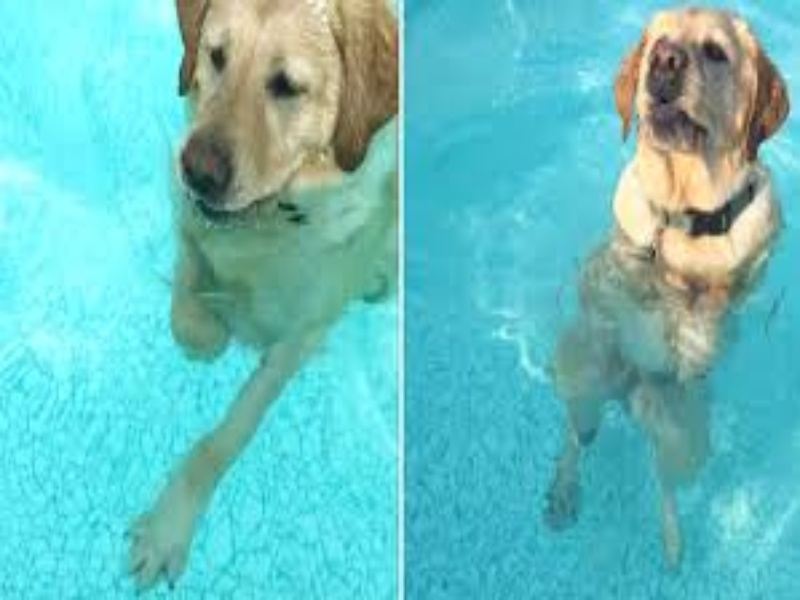dog: (157, 4, 404, 386), (592, 4, 800, 289)
